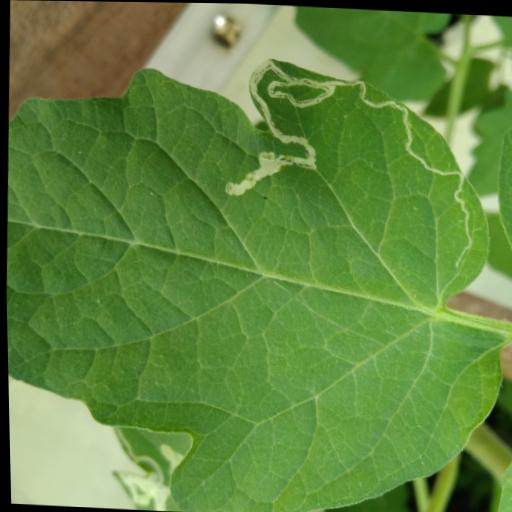Leaf_Miner: (205, 54, 497, 323)
